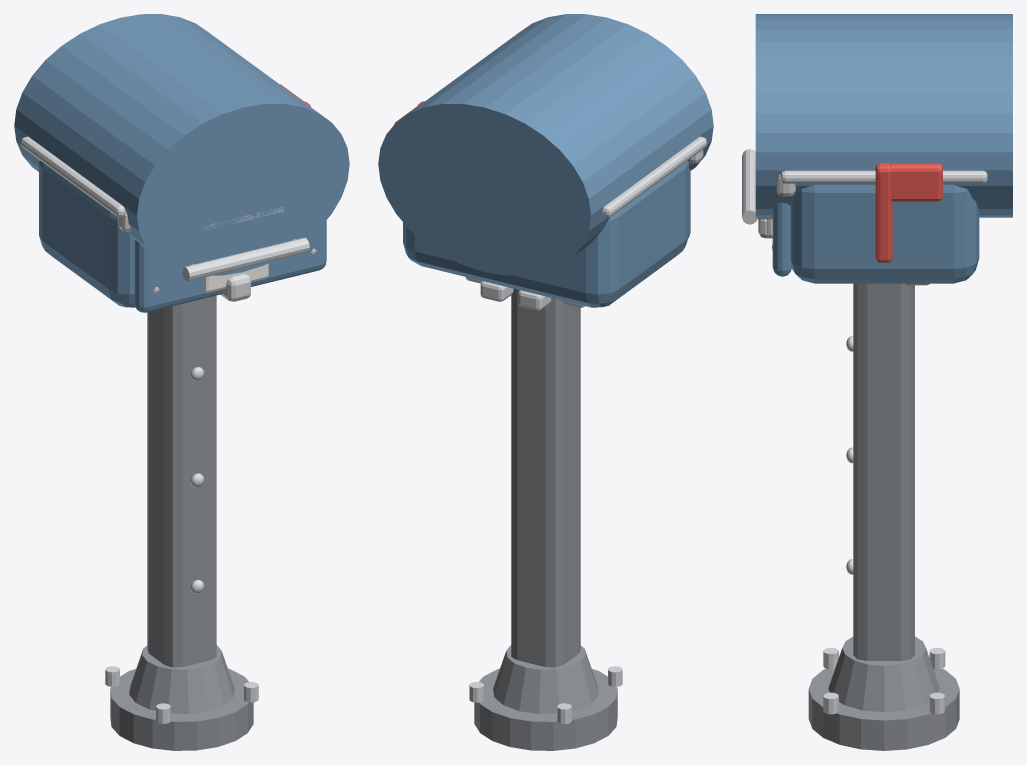
Rendered from prop_mailbox.glb.
3 renders of one model, left to right at view 1: azimuth 30°, elevation 25°; view 2: azimuth 150°, elevation 25°; view 3: azimuth 270°, elevation 25°, orthographic. The views are drawn at different scales.
Parts seen in each view (by area): view 1: prop_mailbox_barrel, prop_mailbox_post, prop_mailbox_body, prop_mailbox_base_plate, prop_mailbox_base_collar, prop_mailbox_door, prop_mailbox_handle, prop_mailbox_drip_cap, prop_mailbox_plate, prop_mailbox_door_stop; view 2: prop_mailbox_barrel, prop_mailbox_post, prop_mailbox_body, prop_mailbox_base_plate, prop_mailbox_base_collar, prop_mailbox_drip_cap; view 3: prop_mailbox_barrel, prop_mailbox_post, prop_mailbox_body, prop_mailbox_base_plate, prop_mailbox_base_collar, prop_mailbox_flag_vane, prop_mailbox_drip_cap, prop_mailbox_flag_arm, prop_mailbox_door, prop_mailbox_handle.
Part boxes in pixels (x1,y1,x2,y2): prop_mailbox_barrel: [14, 14, 349, 275]; prop_mailbox_post: [147, 295, 216, 667]; prop_mailbox_body: [39, 160, 135, 307]; prop_mailbox_base_plate: [110, 668, 253, 750]; prop_mailbox_base_collar: [129, 645, 234, 713]; prop_mailbox_door: [134, 220, 326, 312]; prop_mailbox_handle: [182, 237, 309, 281]; prop_mailbox_drip_cap: [21, 136, 125, 217]; prop_mailbox_plate: [203, 263, 268, 292]; prop_mailbox_door_stop: [220, 274, 250, 301]; prop_mailbox_barrel: [378, 14, 713, 275]; prop_mailbox_post: [511, 289, 580, 667]; prop_mailbox_body: [403, 160, 688, 307]; prop_mailbox_base_plate: [474, 668, 617, 750]; prop_mailbox_base_collar: [493, 645, 598, 713]; prop_mailbox_drip_cap: [602, 136, 706, 217]; prop_mailbox_barrel: [755, 14, 1012, 217]; prop_mailbox_post: [853, 283, 914, 660]; prop_mailbox_body: [790, 184, 979, 283]; prop_mailbox_base_plate: [808, 668, 959, 750]; prop_mailbox_base_collar: [828, 636, 939, 712]; prop_mailbox_flag_vane: [889, 163, 942, 201]; prop_mailbox_drip_cap: [780, 170, 987, 183]; prop_mailbox_flag_arm: [875, 163, 892, 262]; prop_mailbox_door: [772, 202, 791, 276]; prop_mailbox_handle: [742, 149, 757, 224].
Bounding box in the file's own units: 0.52 × 1.36 × 0.484.
